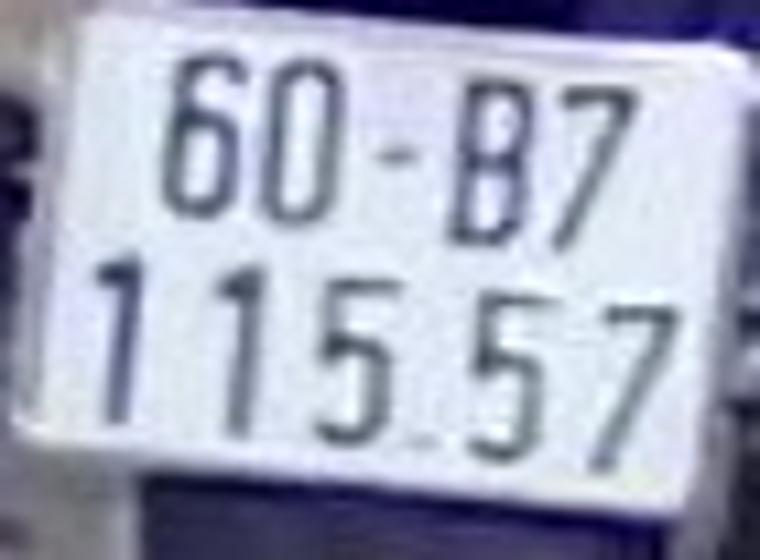-: (366, 138, 429, 180)
0: (263, 47, 350, 227)
1: (212, 260, 277, 441), (98, 241, 150, 431)
5: (470, 286, 564, 466), (316, 275, 406, 454)
6: (149, 39, 254, 236)
7: (592, 286, 686, 479), (553, 77, 644, 250)
B: (452, 71, 533, 255)
